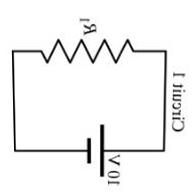resistor: (36, 31, 138, 70)
